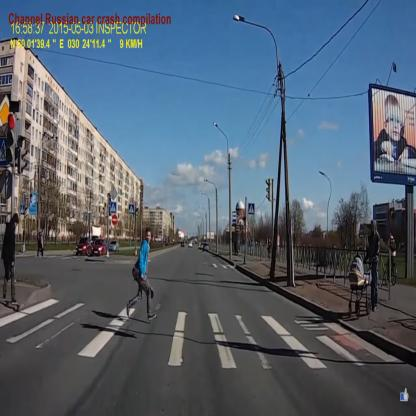crosswalk: (1, 298, 400, 367)
